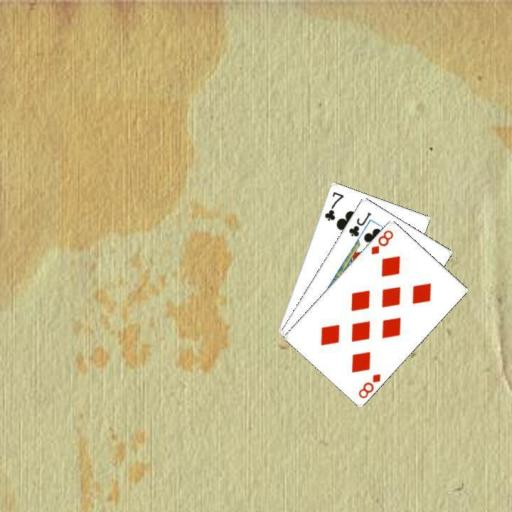card-corner: (321, 188, 345, 222), (355, 370, 382, 400), (346, 208, 372, 238), (368, 226, 394, 256)
